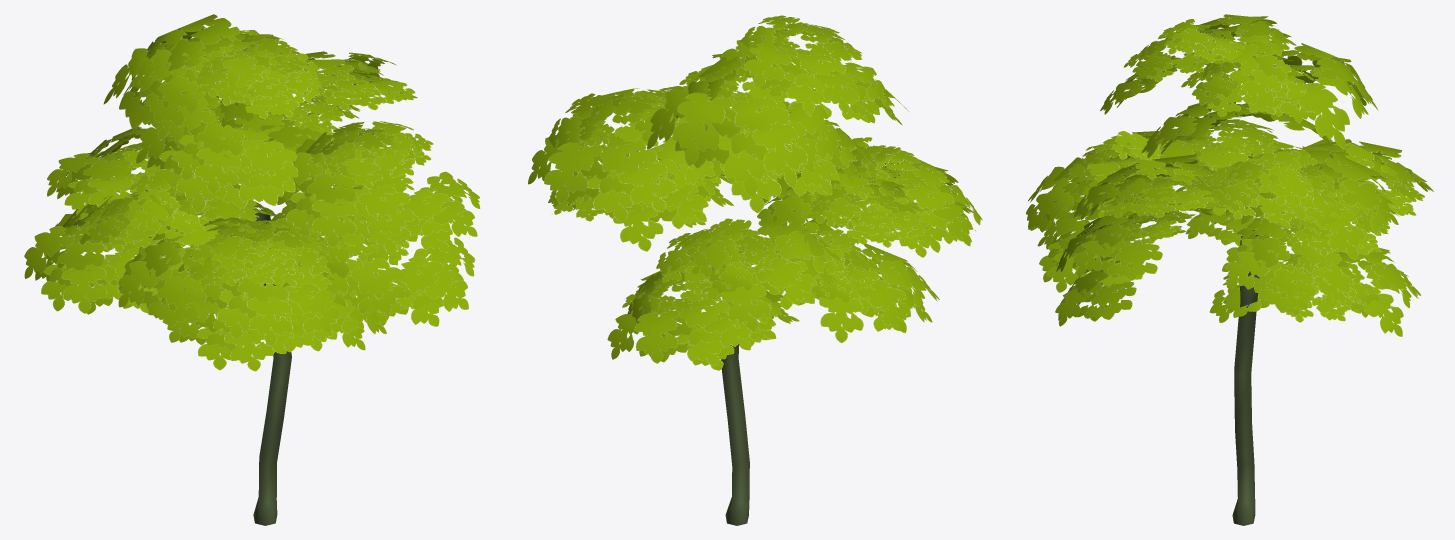
The model's file is tree-lowpoly1.fbx.
3 views of the same model, side by side, from view 1: azimuth 30°, elevation 25°; view 2: azimuth 150°, elevation 25°; view 3: azimuth 270°, elevation 25° (orthographic). The views are drawn at different scales.
Visible parts, largest first — view 1: foliage:tree3.001; view 2: foliage:tree3.001; view 3: foliage:tree3.001.
Part boxes in pixels (x1,y1,x2,y2): foliage:tree3.001: [24, 14, 480, 525]; foliage:tree3.001: [528, 15, 982, 525]; foliage:tree3.001: [1026, 14, 1433, 525].
Size of the model in its own units: 0.5961 by 0.7375 by 0.5919.
1 material, 1 textured.
